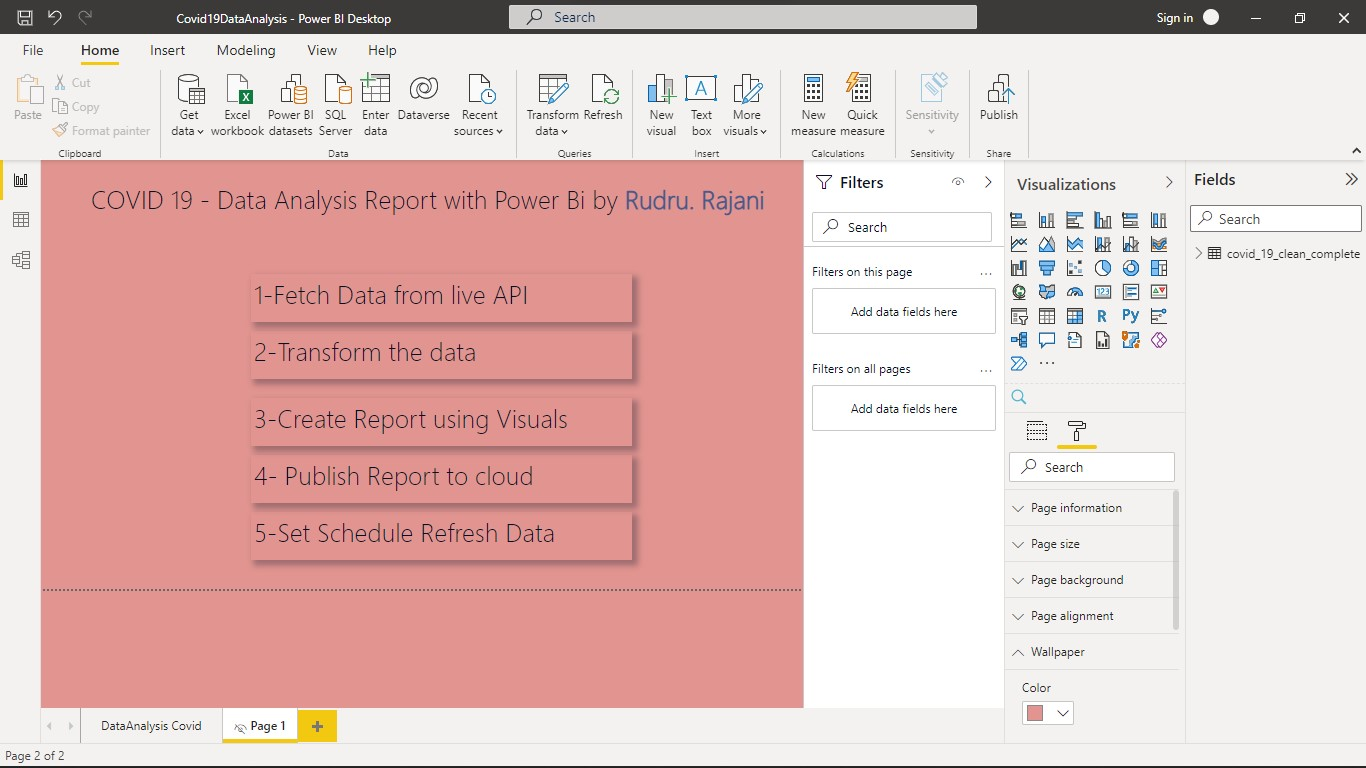

Layout of this report page (visuals, bound fields, positions):
{"tool":"powerbi","page":{"name":"Page 1","canvas":[1280,720],"ordinal":1},"visuals":[{"type":"textbox","box":[78.5,31.7,1201.5,96.3],"z":0},{"type":"textbox","box":[352,192,640,80],"z":1000},{"type":"textbox","box":[352,288,640,80],"z":2000},{"type":"textbox","box":[352,400,640,80],"z":3000},{"type":"textbox","box":[352,496,640,80],"z":4000},{"type":"textbox","box":[352,592,640,80],"z":5000}]}

Visuals, with their boxes on the page's 1280x720 design canvas (x1, y1, x2, y2). These are canvas units, not pixel positions in the 1366x768 screenshot, which may show the page scaled, cropped or inside an application window:
textbox: select_region(78, 32, 1280, 128)
textbox: select_region(352, 192, 992, 272)
textbox: select_region(352, 288, 992, 368)
textbox: select_region(352, 400, 992, 480)
textbox: select_region(352, 496, 992, 576)
textbox: select_region(352, 592, 992, 672)
